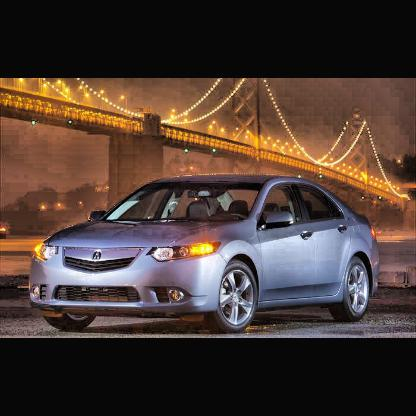Acura TSX Sedan 2012: (31, 174, 381, 330)
